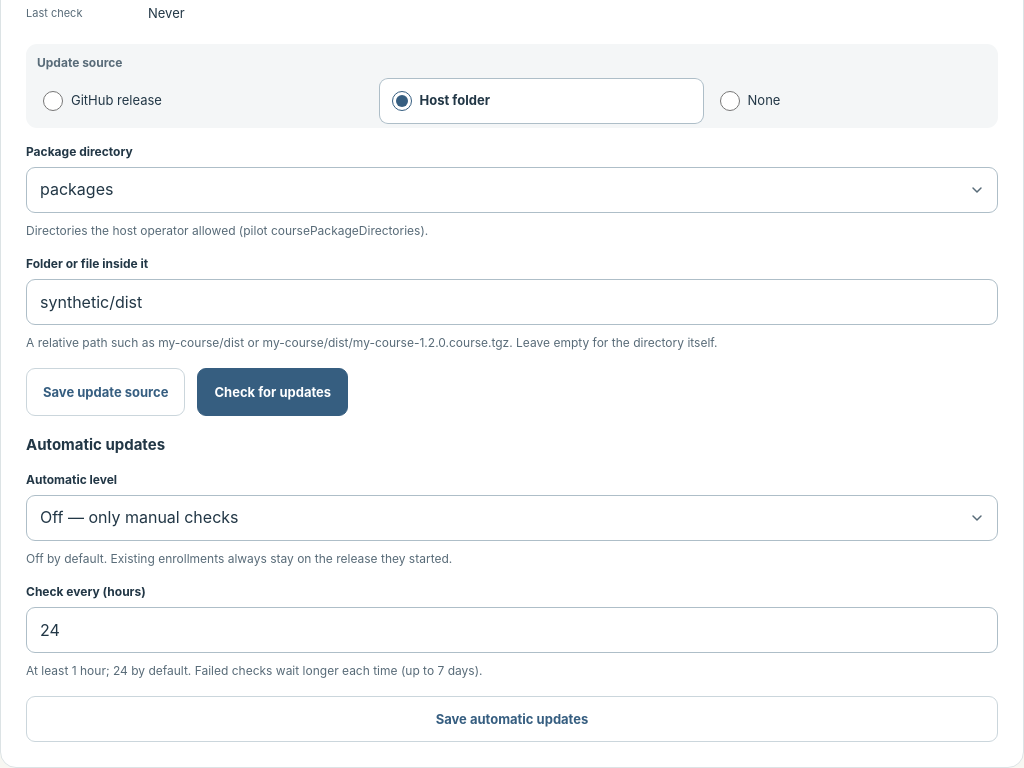
course updates › shows the newer automatic-update settings when chosen
The width and height of the screenshot is (1024, 768).
(page scrolled)
Replace the text in the number field labelled "Check every (hours)" with "6" at coordinates (512, 630), box [26,607,998,653]
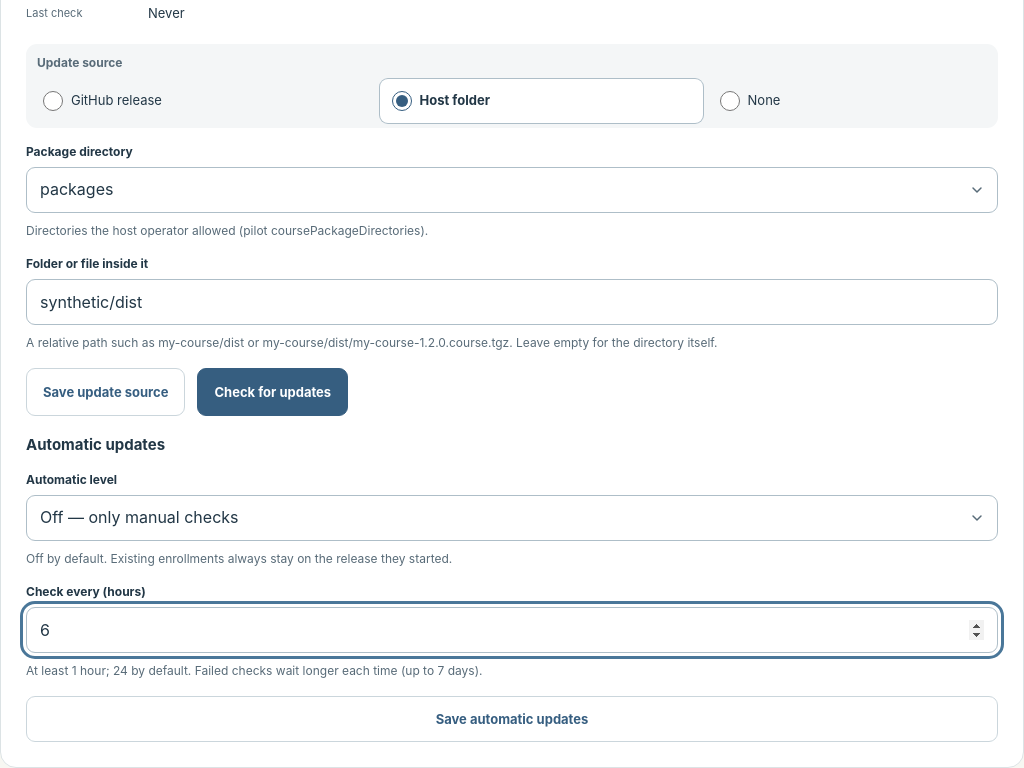
Click the button "Check for updates".
click(273, 392)  # box [197,368,348,416]
(page scrolled)
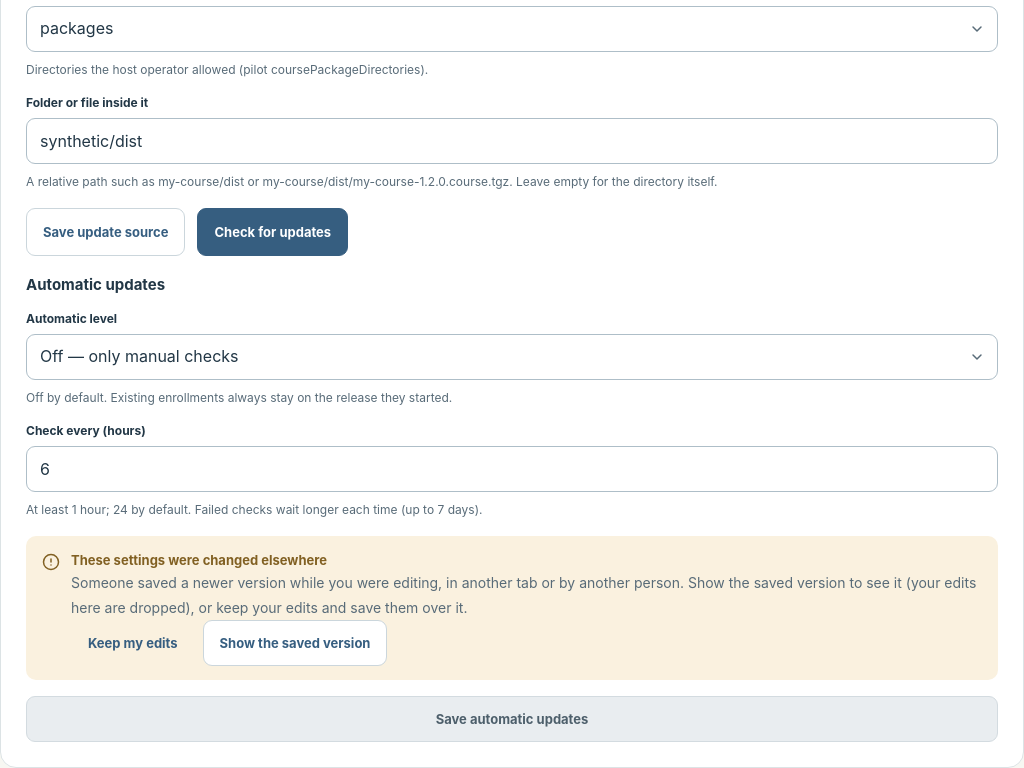
Click the button "Show the saved version".
click(295, 643)  # box [203,620,388,666]
(page scrolled)
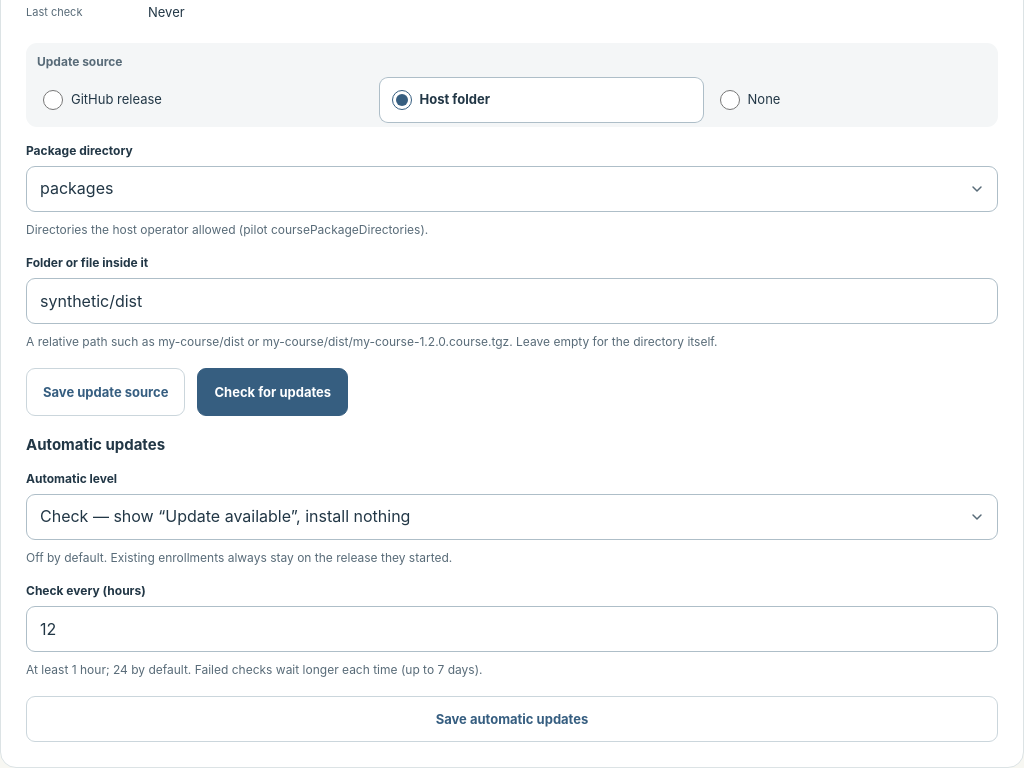
Now the number field labelled "Check every (hours)" holds "12", box [26,606,998,652]
Now the dropdown labelled "Automatic level" shows "Check — show “Update available”, install nothing", box [26,494,998,540]
